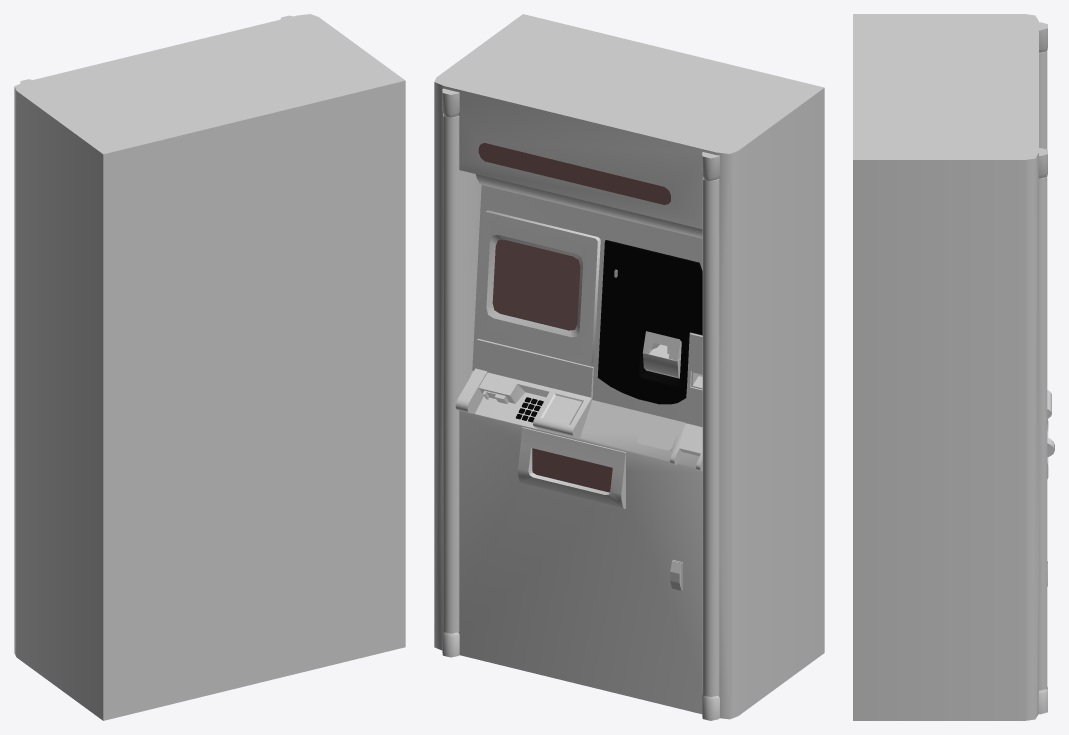
The model's file is SM_RSG_Subway_Ticket_Vending_01.fbx.
The picture shows the model from 3 angles, left to right: view 1: azimuth 30°, elevation 25°; view 2: azimuth 150°, elevation 25°; view 3: azimuth 270°, elevation 25°; orthographic projection.
Visible parts, largest first — view 1: SM_RSG_Subway_Ticket_Vending_01; view 2: SM_RSG_Subway_Ticket_Vending_01; view 3: SM_RSG_Subway_Ticket_Vending_01.
Part boxes in pixels (x1,y1,x2,y2): SM_RSG_Subway_Ticket_Vending_01: (14, 14, 405, 720); SM_RSG_Subway_Ticket_Vending_01: (434, 14, 824, 720); SM_RSG_Subway_Ticket_Vending_01: (853, 14, 1054, 720).
Bounding box in the file's own units: 1.12 × 2 × 0.6518.
